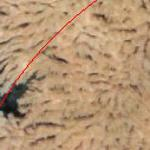alive: (32, 51, 148, 145)
